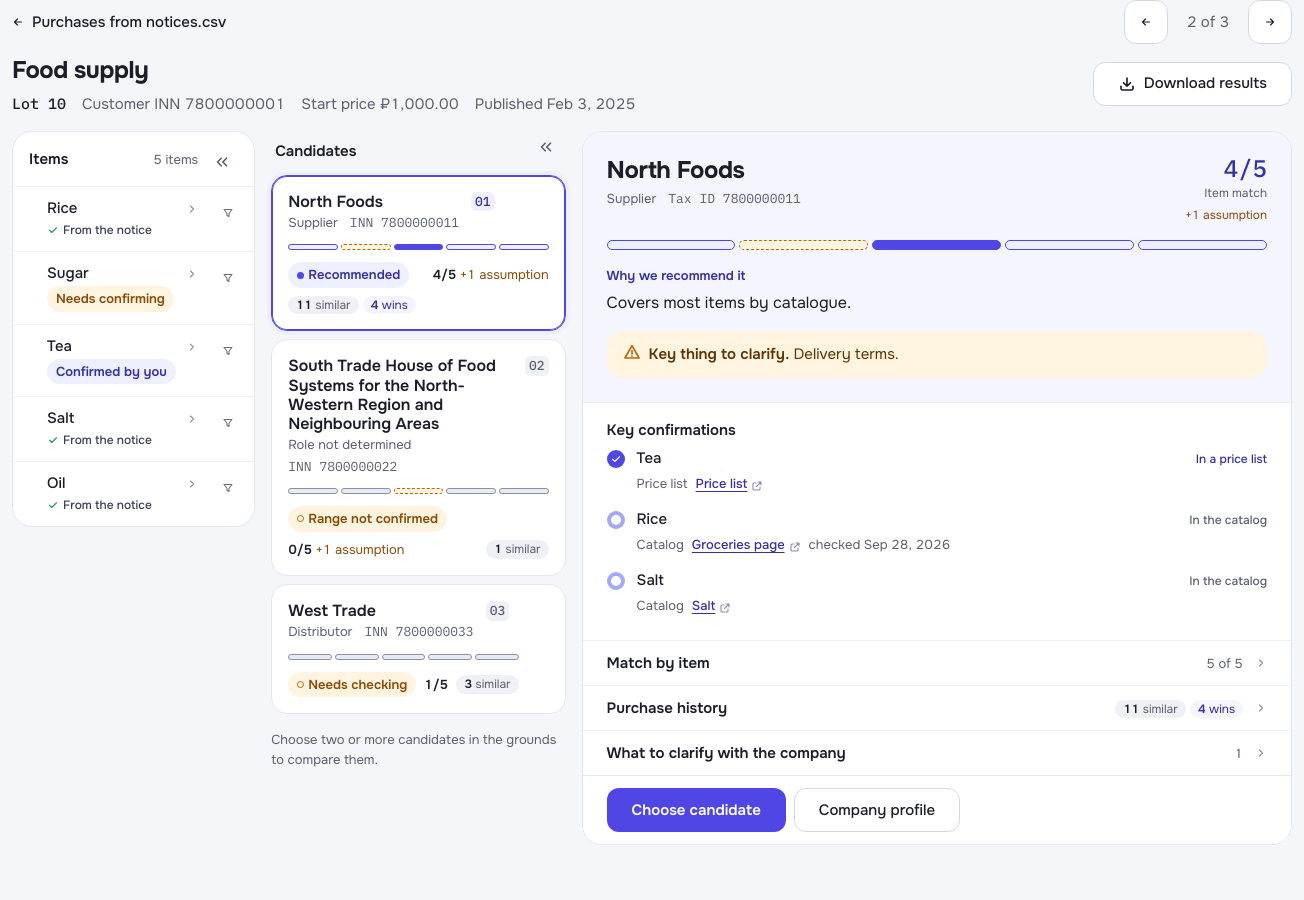
the products column › filters candidates by a product and shows how to reset
This screenshot has width=1304, height=900.
Check: the heading "Food supply" is shown, box x1=12 y1=55 x2=148 y2=85
Click the button named "Show candidates with “Tea”" at {"x": 228, "y": 351}, box x1=206 y1=329 x2=250 y2=373
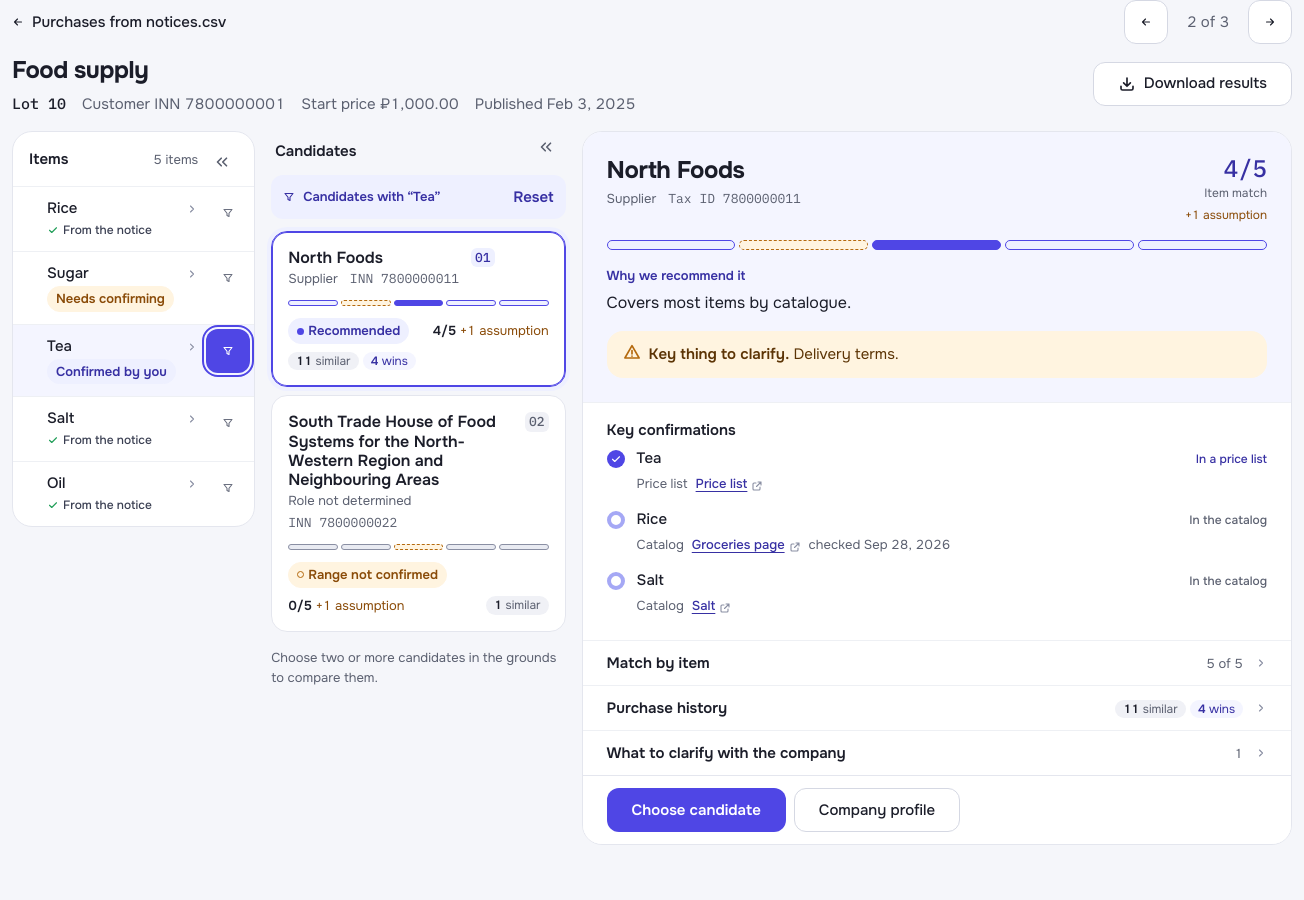
Check: the text "Candidates with “Tea”" is shown, box x1=303 y1=188 x2=440 y2=205
Click the button named "Show candidates with “Salt”" at {"x": 228, "y": 423}, box x1=206 y1=401 x2=250 y2=445
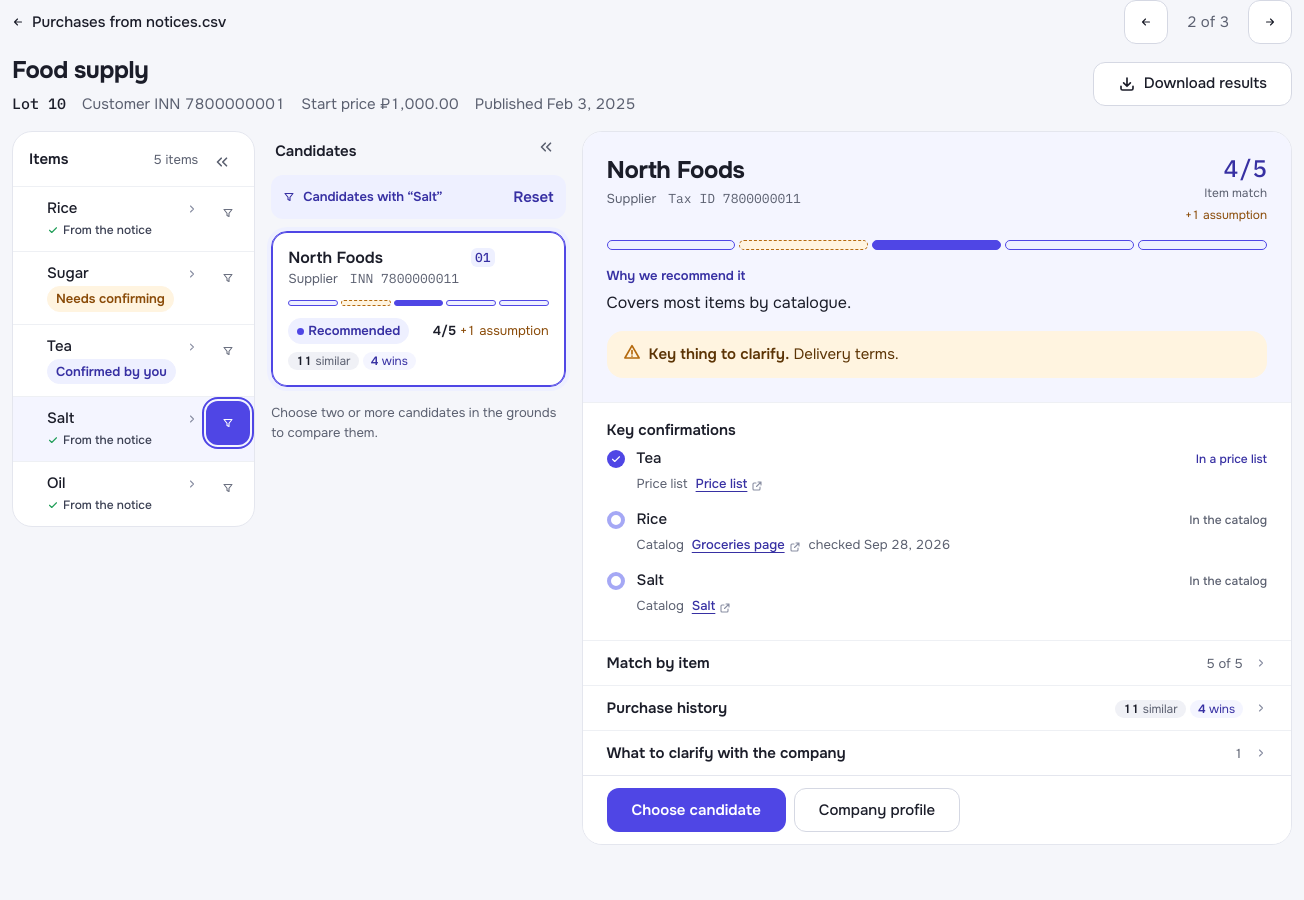
Check: the button "South Trade House of Food Systems for the North-Western Region and Neighbouring Areas" is gone
Click the button "Reset" at {"x": 533, "y": 197}, box x1=501 y1=175 x2=566 y2=219
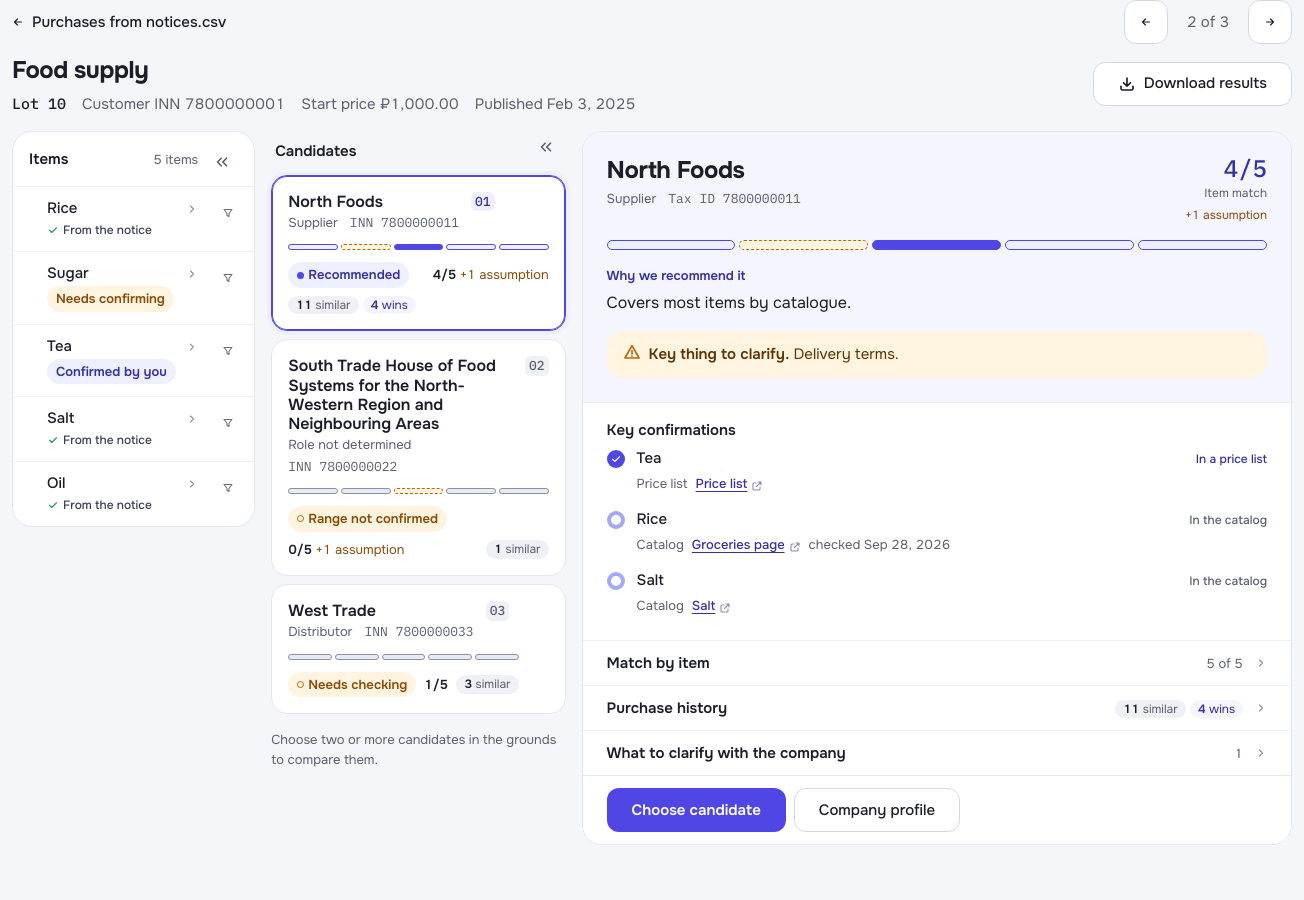
Check: the button "West Trade" is shown, box x1=271 y1=584 x2=566 y2=714
